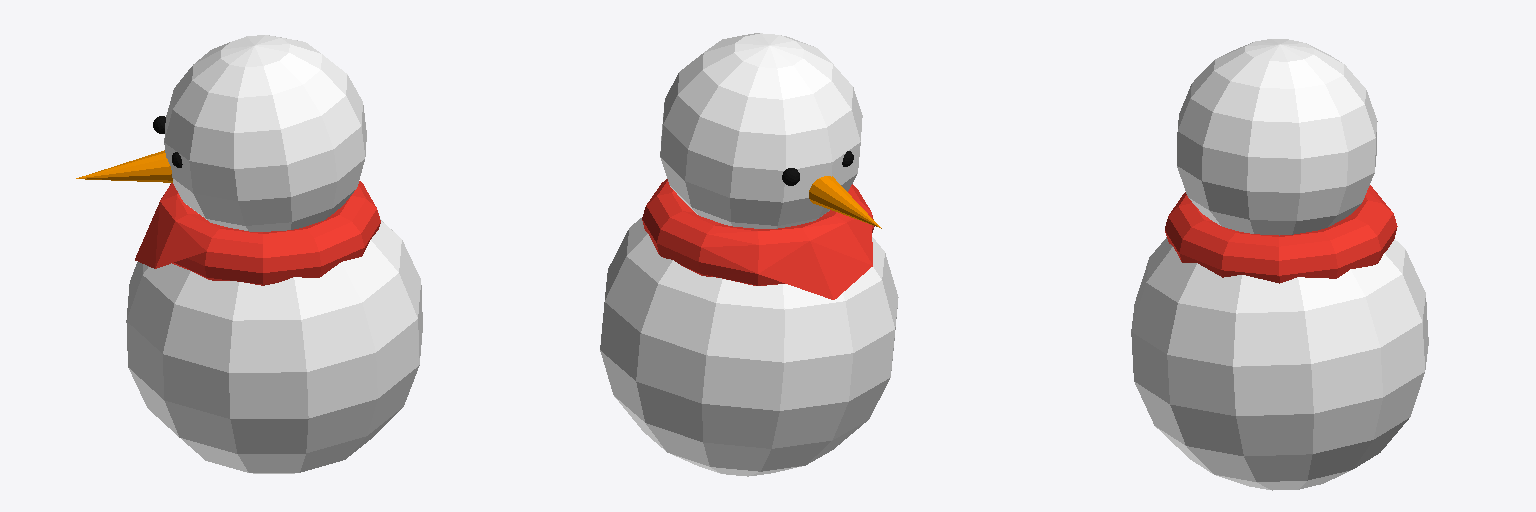
3 views of the same model, side by side, from view 1: azimuth 30°, elevation 25°; view 2: azimuth 150°, elevation 25°; view 3: azimuth 270°, elevation 25° (orthographic).
Visible parts, largest first — view 1: group[number redacted], group[number redacted], group[number redacted], group[number redacted]; view 2: group[number redacted], group[number redacted], group[number redacted], group[number redacted]; view 3: group[number redacted], group[number redacted], group[number redacted].
Boxes of the visible parts, x1=… form: group[number redacted]: x1=126, y1=219, x2=422, y2=473; group[number redacted]: x1=164, y1=35, x2=366, y2=231; group[number redacted]: x1=135, y1=181, x2=380, y2=285; group[number redacted]: x1=76, y1=150, x2=172, y2=182; group[number redacted]: x1=600, y1=218, x2=898, y2=476; group[number redacted]: x1=660, y1=33, x2=862, y2=228; group[number redacted]: x1=642, y1=179, x2=874, y2=299; group[number redacted]: x1=809, y1=176, x2=881, y2=228; group[number redacted]: x1=1131, y1=237, x2=1428, y2=490; group[number redacted]: x1=1177, y1=39, x2=1377, y2=235; group[number redacted]: x1=1165, y1=185, x2=1397, y2=283.
Size of the model in its own units: 0.9451 by 1.29 by 0.8246.